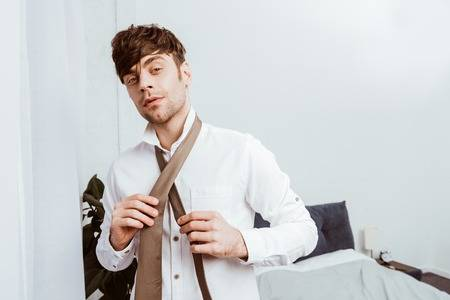F_shirt: (93, 101, 321, 300)
